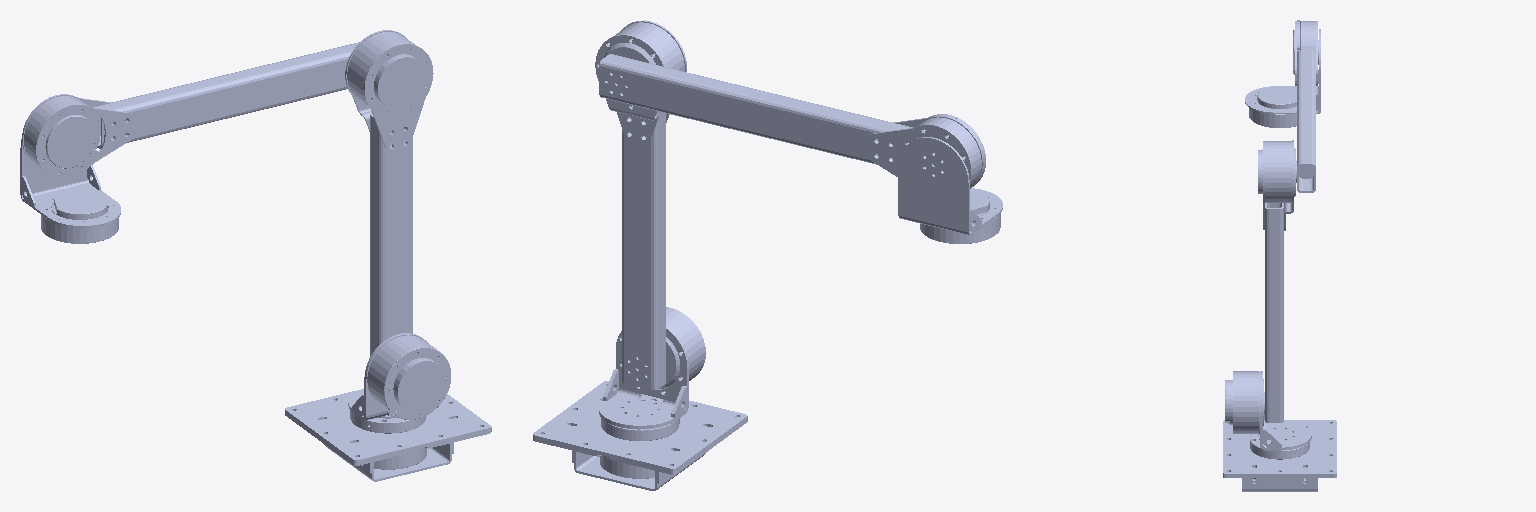
robot.urdf — Arm_MoveIt_Assembly_2.SLDASM:
<?xml version="1.0" encoding="utf-8"?>
<!-- This URDF was automatically created by SolidWorks to URDF Exporter! Originally created by [author] ([email redacted]) 
     Commit Version: 1.6.0-4-g7f85cfe  Build Version: 1.6.7995.38578
     For more information, please see http://wiki.ros.org/sw_urdf_exporter -->
<robot
  name="Arm_MoveIt_Assembly_2.SLDASM">
  <link
    name="base_link">
    <inertial>
      <origin
        xyz="-1.60427944680824E-05 3.87300953518521E-05 0.0414251446336533"
        rpy="0 0 0" />
      <mass
        value="0.655014596547137" />
      <inertia
        ixx="0.00101073031912522"
        ixy="-1.90767935198549E-07"
        ixz="-1.70165593174552E-07"
        iyy="0.00095401536565403"
        iyz="4.10819611617687E-07"
        izz="0.00188699356120778" />
    </inertial>
    <visual>
      <origin
        xyz="0 0 0"
        rpy="0 0 0" />
      <geometry>
        <mesh
          filename="package://Arm_MoveIt_Assembly_2.SLDASM/meshes/base_link.STL" />
      </geometry>
      <material
        name="">
        <color
          rgba="0.792156862745098 0.819607843137255 0.933333333333333 1" />
      </material>
    </visual>
    <collision>
      <origin
        xyz="0 0 0"
        rpy="0 0 0" />
      <geometry>
        <mesh
          filename="package://Arm_MoveIt_Assembly_2.SLDASM/meshes/base_link.STL" />
      </geometry>
    </collision>
  </link>
  <link
    name="link1">
    <inertial>
      <origin
        xyz="-2.98433441167228E-05 -0.0483515314635655 0.054713057999731"
        rpy="0 0 0" />
      <mass
        value="0.455125224183725" />
      <inertia
        ixx="0.000394829058309459"
        ixy="-3.74478064371732E-07"
        ixz="-3.68999770581158E-07"
        iyy="0.000530839403055201"
        iyz="2.00439805340243E-05"
        izz="0.000397964515551658" />
    </inertial>
    <visual>
      <origin
        xyz="0 0 0"
        rpy="0 0 0" />
      <geometry>
        <mesh
          filename="package://Arm_MoveIt_Assembly_2.SLDASM/meshes/link1.STL" />
      </geometry>
      <material
        name="">
        <color
          rgba="0.792156862745098 0.819607843137255 0.933333333333333 1" />
      </material>
    </visual>
    <collision>
      <origin
        xyz="0 0 0"
        rpy="0 0 0" />
      <geometry>
        <mesh
          filename="package://Arm_MoveIt_Assembly_2.SLDASM/meshes/link1.STL" />
      </geometry>
    </collision>
  </link>
  <joint
    name="Joint1"
    type="revolute">
    <origin
      xyz="0 0 0.0775"
      rpy="0 0 0" />
    <parent
      link="base_link" />
    <child
      link="link1" />
    <axis
      xyz="0 0 1" />
    <limit
      lower="0"
      upper="0"
      effort="0"
      velocity="0" />
  </joint>
  <link
    name="link2">
    <inertial>
      <origin
        xyz="9.27579481573709E-05 0.0175182399290933 0.275472999386939"
        rpy="0 0 0" />
      <mass
        value="0.891856461721987" />
      <inertia
        ixx="0.00435475407288075"
        ixy="-1.03883193767182E-07"
        ixz="-2.20593156848666E-07"
        iyy="0.0045575625095459"
        iyz="-2.02472686656056E-06"
        izz="0.000474727840907136" />
    </inertial>
    <visual>
      <origin
        xyz="0 0 0"
        rpy="0 0 0" />
      <geometry>
        <mesh
          filename="package://Arm_MoveIt_Assembly_2.SLDASM/meshes/link2.STL" />
      </geometry>
      <material
        name="">
        <color
          rgba="0.792156862745098 0.819607843137255 0.933333333333333 1" />
      </material>
    </visual>
    <collision>
      <origin
        xyz="0 0 0"
        rpy="0 0 0" />
      <geometry>
        <mesh
          filename="package://Arm_MoveIt_Assembly_2.SLDASM/meshes/link2.STL" />
      </geometry>
    </collision>
  </link>
  <joint
    name="Joint2"
    type="revolute">
    <origin
      xyz="0 -0.024 0.06"
      rpy="0 0 0" />
    <parent
      link="link1" />
    <child
      link="link2" />
    <axis
      xyz="0 -1 0" />
    <limit
      lower="0"
      upper="0"
      effort="0"
      velocity="0" />
  </joint>
  <link
    name="link3">
    <inertial>
      <origin
        xyz="-0.279853886139342 0.0148848609580054 -8.91509088774001E-14"
        rpy="0 0 0" />
      <mass
        value="0.820660258517619" />
      <inertia
        ixx="0.00034453508599863"
        ixy="-4.48152667831286E-07"
        ixz="-2.93896707620862E-09"
        iyy="0.00648723879471234"
        iyz="-1.1030432802364E-19"
        izz="0.00626772615915787" />
    </inertial>
    <visual>
      <origin
        xyz="0 0 0"
        rpy="0 0 0" />
      <geometry>
        <mesh
          filename="package://Arm_MoveIt_Assembly_2.SLDASM/meshes/link3.STL" />
      </geometry>
      <material
        name="">
        <color
          rgba="0.792156862745098 0.819607843137255 0.933333333333333 1" />
      </material>
    </visual>
    <collision>
      <origin
        xyz="0 0 0"
        rpy="0 0 0" />
      <geometry>
        <mesh
          filename="package://Arm_MoveIt_Assembly_2.SLDASM/meshes/link3.STL" />
      </geometry>
    </collision>
  </link>
  <joint
    name="Joint3"
    type="revolute">
    <origin
      xyz="0.00020722 0.0507 0.39997"
      rpy="0 0 0" />
    <parent
      link="link2" />
    <child
      link="link3" />
    <axis
      xyz="0 1 0" />
    <limit
      lower="0"
      upper="0"
      effort="0"
      velocity="0" />
  </joint>
  <link
    name="link4">
    <inertial>
      <origin
        xyz="8.93211447727804E-05 -0.053367466841865 -0.0860702805514775"
        rpy="0 0 0" />
      <mass
        value="0.284019990052222" />
      <inertia
        ixx="0.0002676570674362"
        ixy="-3.02110627748456E-07"
        ixz="-4.10818936428336E-07"
        iyy="0.000253734082405407"
        iyz="-3.16043936161858E-05"
        izz="0.000344774781306503" />
    </inertial>
    <visual>
      <origin
        xyz="0 0 0"
        rpy="0 0 0" />
      <geometry>
        <mesh
          filename="package://Arm_MoveIt_Assembly_2.SLDASM/meshes/link4.STL" />
      </geometry>
      <material
        name="">
        <color
          rgba="0.792156862745098 0.819607843137255 0.933333333333333 1" />
      </material>
    </visual>
    <collision>
      <origin
        xyz="0 0 0"
        rpy="0 0 0" />
      <geometry>
        <mesh
          filename="package://Arm_MoveIt_Assembly_2.SLDASM/meshes/link4.STL" />
      </geometry>
    </collision>
  </link>
  <joint
    name="Joint4"
    type="revolute">
    <origin
      xyz="-0.44676 0.035 0"
      rpy="0 0 0" />
    <parent
      link="link3" />
    <child
      link="link4" />
    <axis
      xyz="0 -1 0" />
    <limit
      lower="0"
      upper="0"
      effort="0"
      velocity="0" />
  </joint>
  <link
    name="End_effector">
    <inertial>
      <origin
        xyz="-0.00291436016362501 -0.00153953625183363 -0.0697917938513678"
        rpy="0 0 0" />
      <mass
        value="0.891224455695713" />
      <inertia
        ixx="0.00266784691683874"
        ixy="-2.00928120275423E-06"
        ixz="1.12696986555021E-05"
        iyy="0.000652543524415567"
        iyz="-9.75739303299043E-06"
        izz="0.00233302824155854" />
    </inertial>
    <visual>
      <origin
        xyz="0 0 0"
        rpy="0 0 0" />
      <geometry>
        <mesh
          filename="package://Arm_MoveIt_Assembly_2.SLDASM/meshes/End_effector.STL" />
      </geometry>
      <material
        name="">
        <color
          rgba="0.792156862745098 0.819607843137255 0.933333333333333 1" />
      </material>
    </visual>
    <collision>
      <origin
        xyz="0 0 0"
        rpy="0 0 0" />
      <geometry>
        <mesh
          filename="package://Arm_MoveIt_Assembly_2.SLDASM/meshes/End_effector.STL" />
      </geometry>
    </collision>
  </link>
  <joint
    name="end_effector"
    type="revolute">
    <origin
      xyz="0 -0.0617 -0.1125"
      rpy="0 0 0" />
    <parent
      link="link4" />
    <child
      link="End_effector" />
    <axis
      xyz="0 0 -1" />
    <limit
      lower="0"
      upper="0"
      effort="0"
      velocity="0" />
  </joint>
</robot>

--- Render facts (derived) ---
Views: 3 orthographic renders of the robot side by side, from view 1: azimuth 30°, elevation 25°; view 2: azimuth 150°, elevation 25°; view 3: azimuth 270°, elevation 25°.
Model Arm_MoveIt_Assembly_2.SLDASM with 6 links and 5 joints (5 revolute), rooted at base_link, posed every joint at zero.
Visible links, largest first — view 1: link3, link2, base_link, link1, link4; view 2: link3, link2, base_link, link4, link1; view 3: link2, base_link, link3, link1, link4.
Boxes of the visible links, box(x1,y1,x2,y2) form: link3: box(22, 42, 359, 178); link2: box(345, 30, 433, 356); base_link: box(285, 390, 491, 481); link1: box(348, 333, 450, 420); link4: box(20, 139, 120, 243); link3: box(599, 54, 985, 188); link2: box(595, 20, 686, 389); base_link: box(533, 381, 747, 490); link4: box(898, 137, 1002, 243); link1: box(599, 307, 705, 429); link2: box(1258, 140, 1296, 422); base_link: box(1223, 420, 1336, 491); link3: box(1293, 20, 1318, 192); link1: box(1225, 371, 1311, 450); link4: box(1245, 29, 1320, 127).
Bounding box of the posed robot: 0.5966 × 0.18 × 0.5875 m (x, y, z).
5 mesh visuals loaded from 6 distinct referenced files (5 binary STL); not drawn: 1 (reference not matched to a file when rendering).